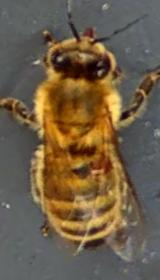varroa_mite: (86, 142, 120, 188)
